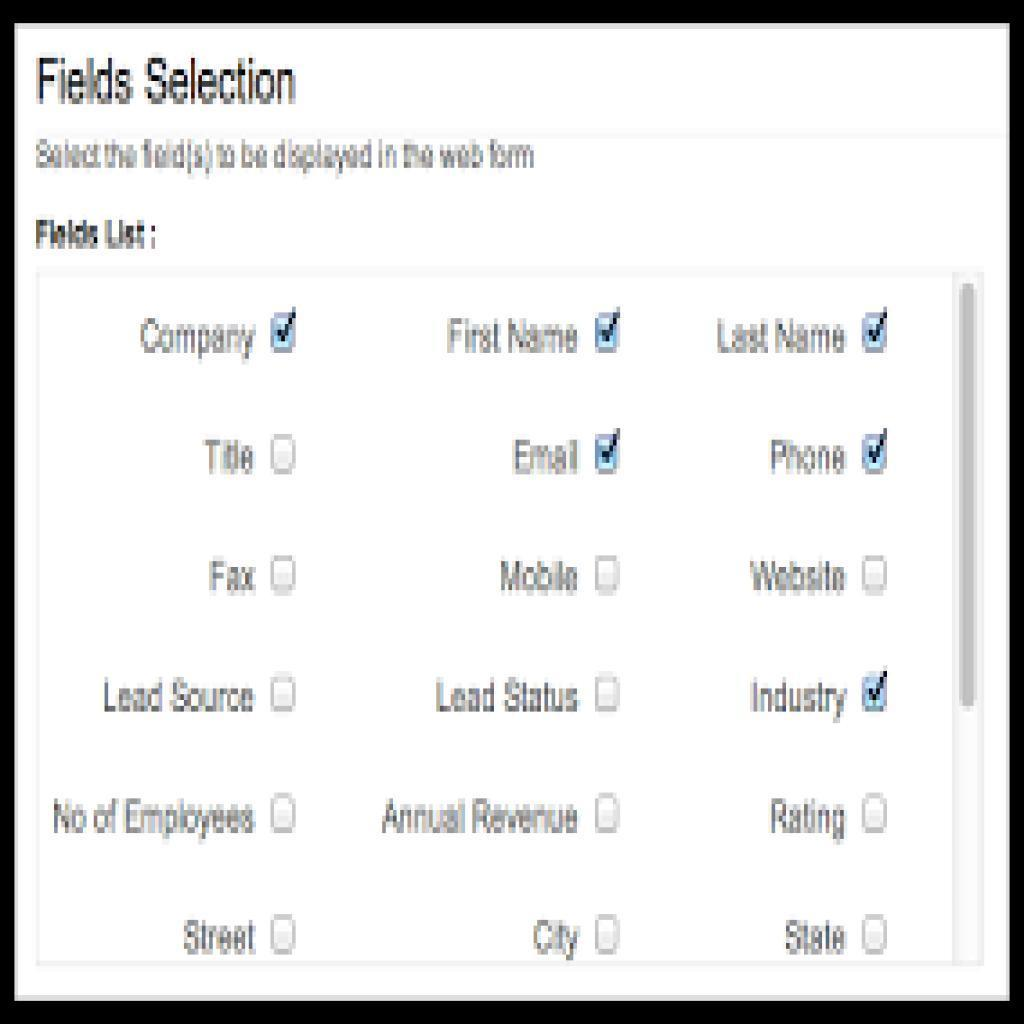checkbox: (270, 435, 298, 474), (863, 796, 889, 837), (863, 434, 888, 476), (272, 918, 299, 955), (594, 315, 621, 352), (864, 314, 889, 352), (863, 917, 888, 955), (594, 796, 622, 829), (865, 672, 889, 710), (596, 434, 619, 473), (596, 557, 620, 594), (595, 919, 621, 953), (864, 560, 888, 596), (273, 558, 297, 593), (272, 677, 298, 709), (596, 679, 620, 713), (274, 796, 295, 834), (275, 316, 295, 353), (895, 835, 896, 837)
label: (385, 794, 581, 843), (47, 800, 258, 842), (432, 677, 581, 722), (710, 313, 847, 360), (443, 316, 579, 361), (132, 315, 259, 363), (97, 679, 258, 716), (742, 673, 850, 722), (749, 561, 848, 599), (501, 555, 580, 602), (180, 916, 262, 959), (507, 434, 583, 478), (770, 439, 848, 481), (770, 801, 845, 843), (199, 432, 258, 479), (784, 916, 850, 957), (529, 917, 583, 964), (206, 554, 261, 600)
